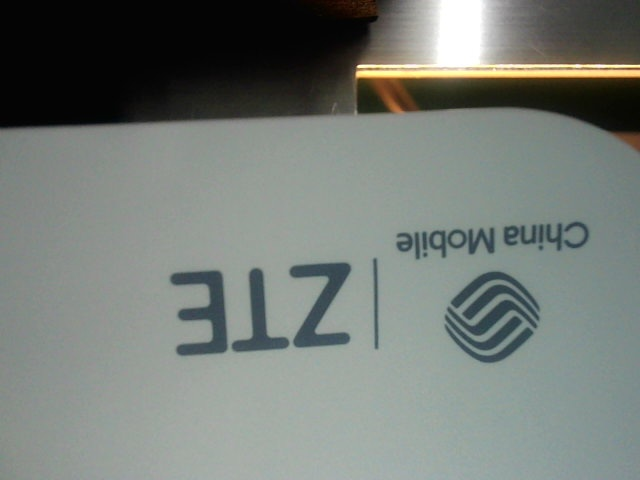AL_ZTEChinaMobile: (131, 199, 628, 378)
